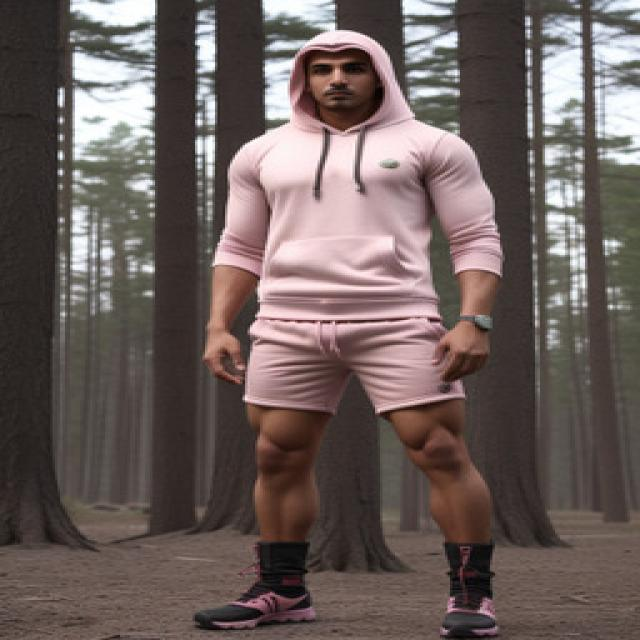Ai human 2: (189, 21, 527, 640)
